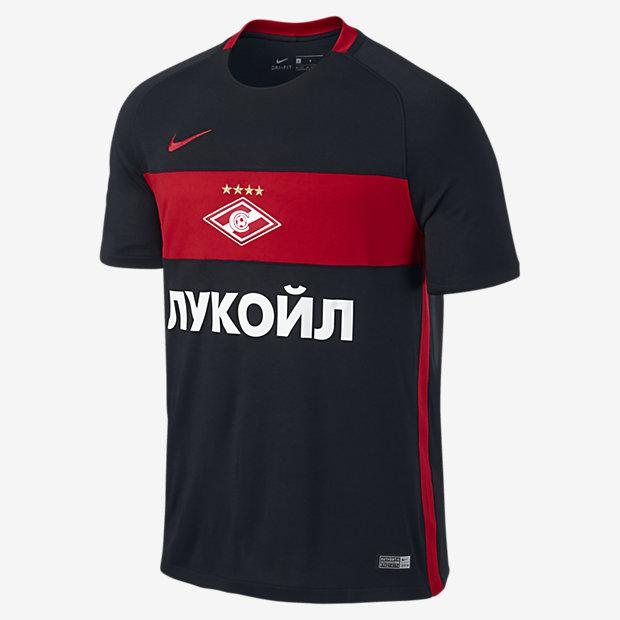teeshirt: (76, 16, 586, 618)
